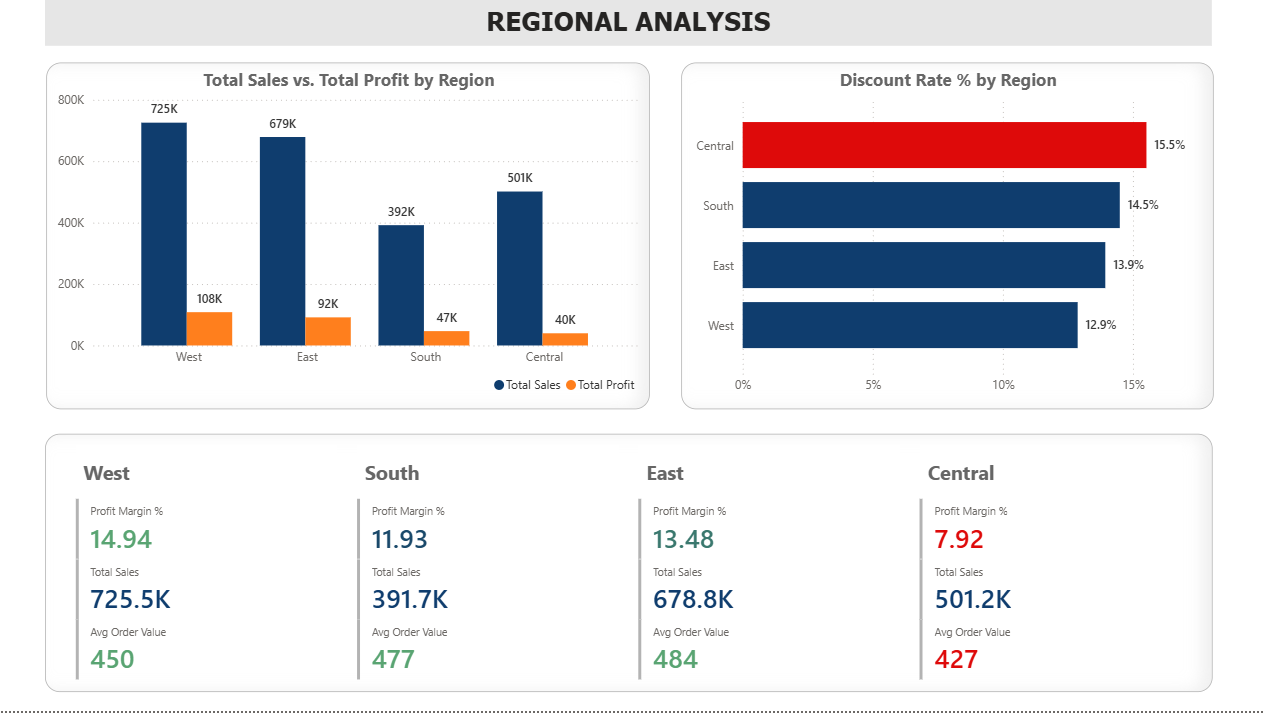

The page's visual inventory and layout, read from the dashboard file:
{"tool":"powerbi","page":{"name":"Geography","canvas":[1280,720],"ordinal":2},"visuals":[{"type":"clusteredColumnChart","title":"Total Sales vs. Total Profit by Region","fields":{"Category":["sales_data.Region"],"Y":["sales_data.Total Sales","sales_data.Total Profit"]},"box":[47,63.3,611.4,351],"z":0},{"type":"clusteredBarChart","title":"Total Discount Amount($) by Region","fields":{"Category":["sales_data.Region"],"Y":["sales_data.Total Discount"]},"box":[690.2,63.3,539.3,351],"z":1000},{"type":"cardVisual","fields":{"Data":["sales_data.Profit Margin %","sales_data.Total Sales","sales_data.Avg Order Value"],"Rows":["sales_data.Region"]},"box":[46,439.5,1182.5,261.7],"z":2000},{"type":"textbox","box":[45.2,0,1181.3,46.5],"z":3000}]}

Visuals, with their boxes in screenshot pixels (x1, y1, x2, y2), scaled from the page's 1280x720 canvas onto the 1263x713 screenshot:
"Total Sales vs. Total Profit by Region" clusteredColumnChart: locate(46, 63, 650, 410)
"Total Discount Amount($) by Region" clusteredBarChart: locate(681, 63, 1213, 410)
cardVisual - sales_data.Profit Margin % x sales_data.Total Sales: locate(45, 435, 1212, 694)
textbox: locate(45, 0, 1210, 46)
